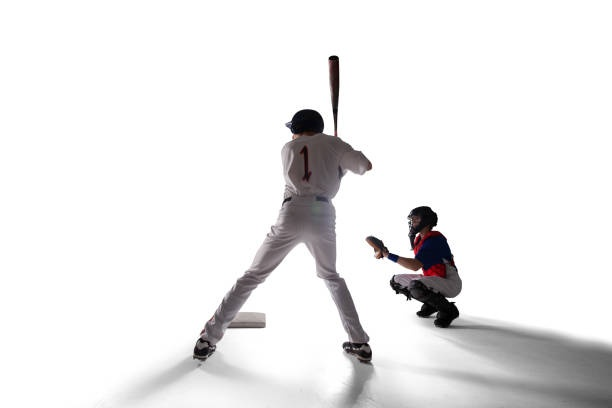bita: (326, 48, 353, 142)
